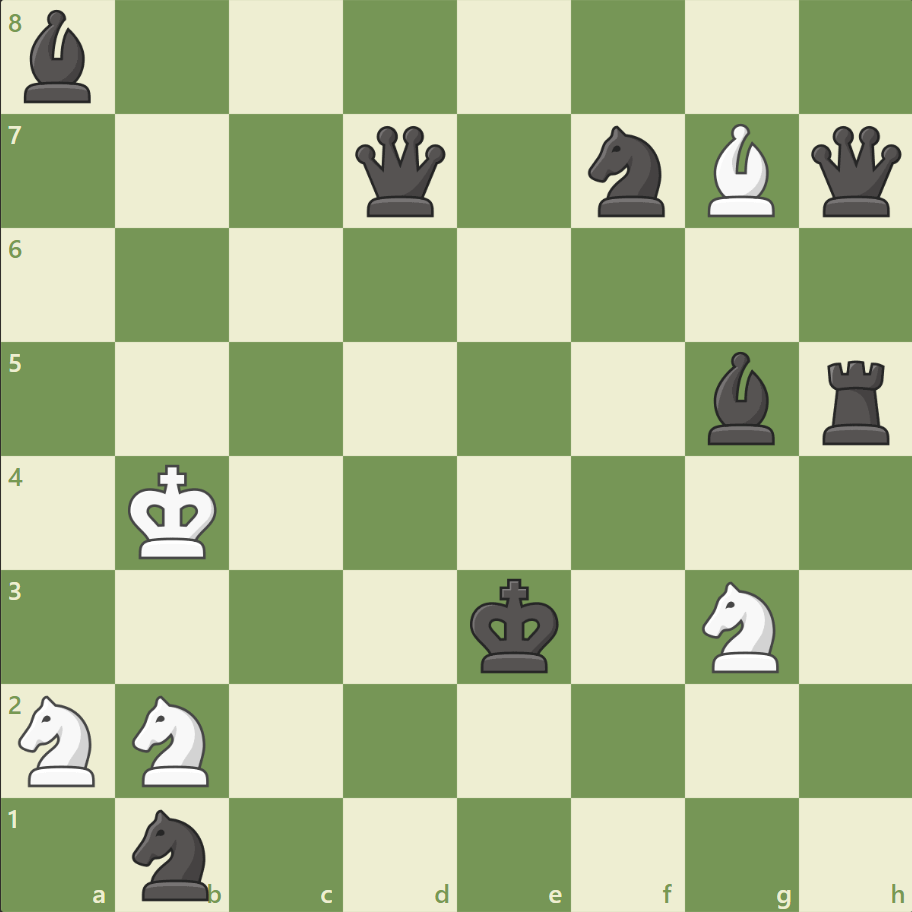B: (698, 120, 782, 222)
K: (124, 458, 224, 566)
N: (124, 688, 222, 791), (11, 688, 108, 791), (692, 575, 789, 677)
b: (17, 6, 101, 109), (698, 347, 782, 449)
k: (465, 571, 565, 679)
n: (124, 802, 222, 904), (579, 121, 676, 223)
q: (351, 122, 450, 222), (805, 122, 904, 222)
r: (814, 352, 897, 449)
